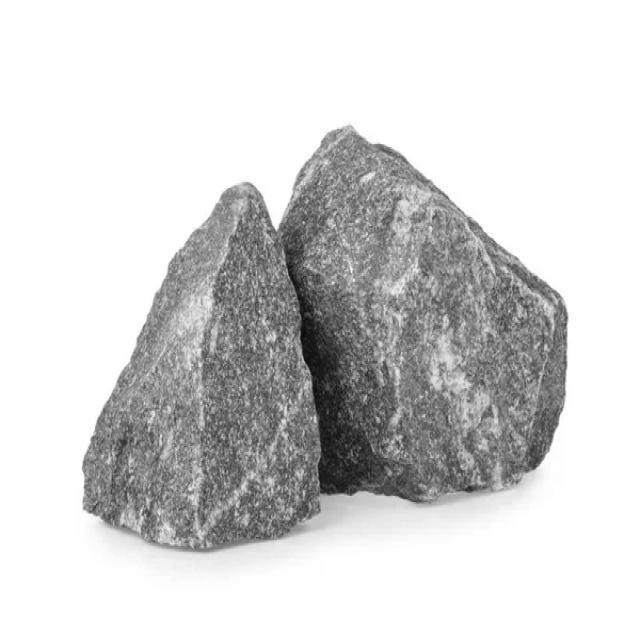Stone: (280, 126, 568, 501), (82, 182, 321, 548)
